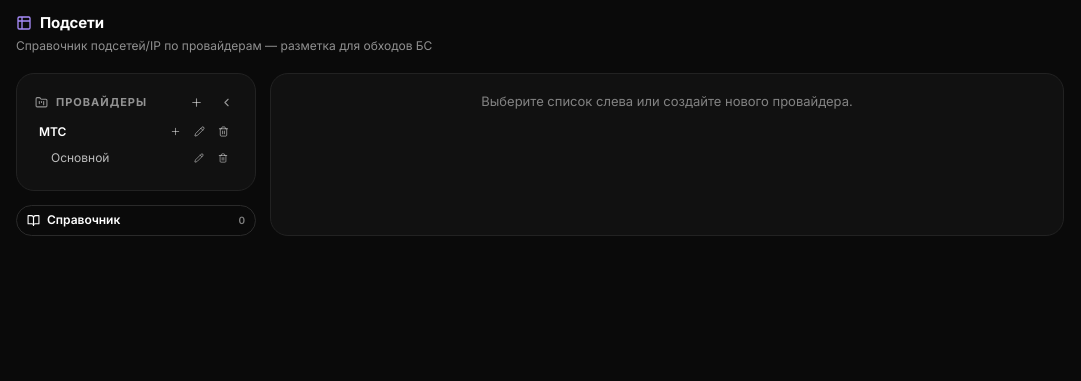
Test: Subnets › отмена шлёт req_id на /latency-scan/cancel
Click the text "Основной" at (80, 157), box [51, 150, 109, 164]
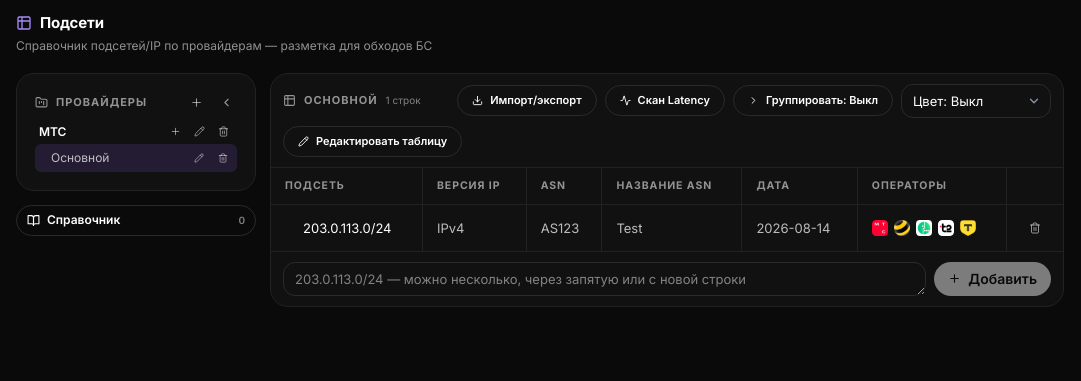
Click the button with test id "latency-scan-toggle" at (665, 100), box [605, 85, 725, 116]
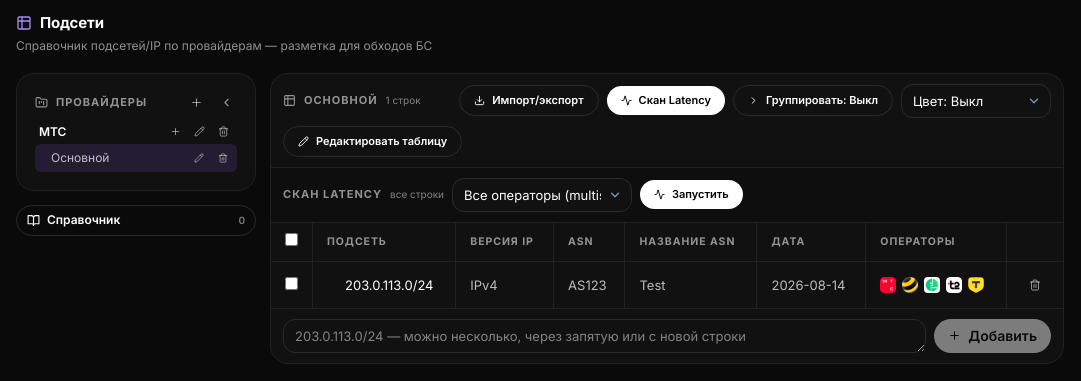
Expected: the element with test id "latency-scan-panel" is shown, [271, 168, 1063, 222]
Click the button with test id "latency-start" at (691, 194), box [640, 180, 743, 209]
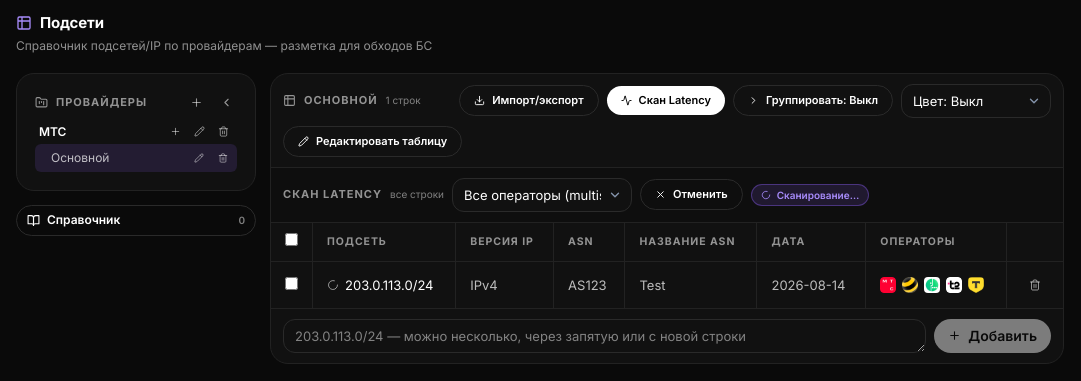
Click the button with test id "latency-cancel" at (691, 194), box [640, 179, 743, 210]
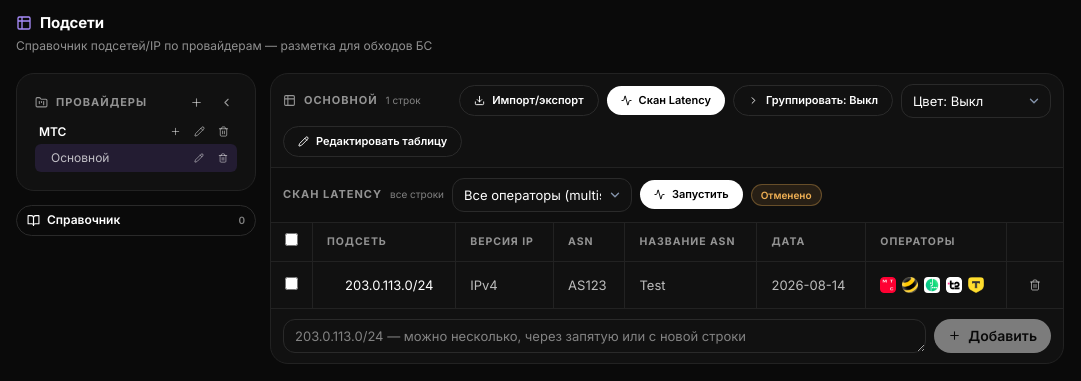
Expected: the text "Отменено" is shown, [751, 184, 822, 206]
